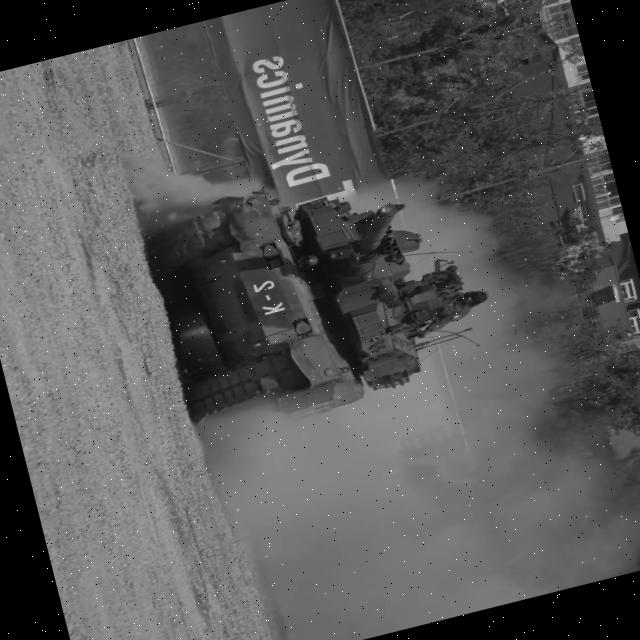korea tank: (137, 140, 506, 444)
